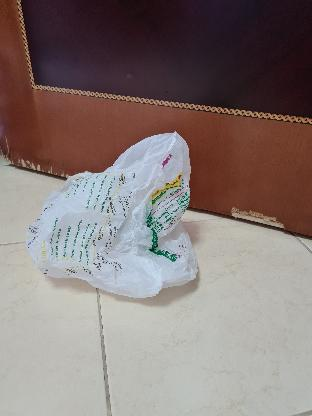Plastic Bag: (26, 124, 198, 300)
